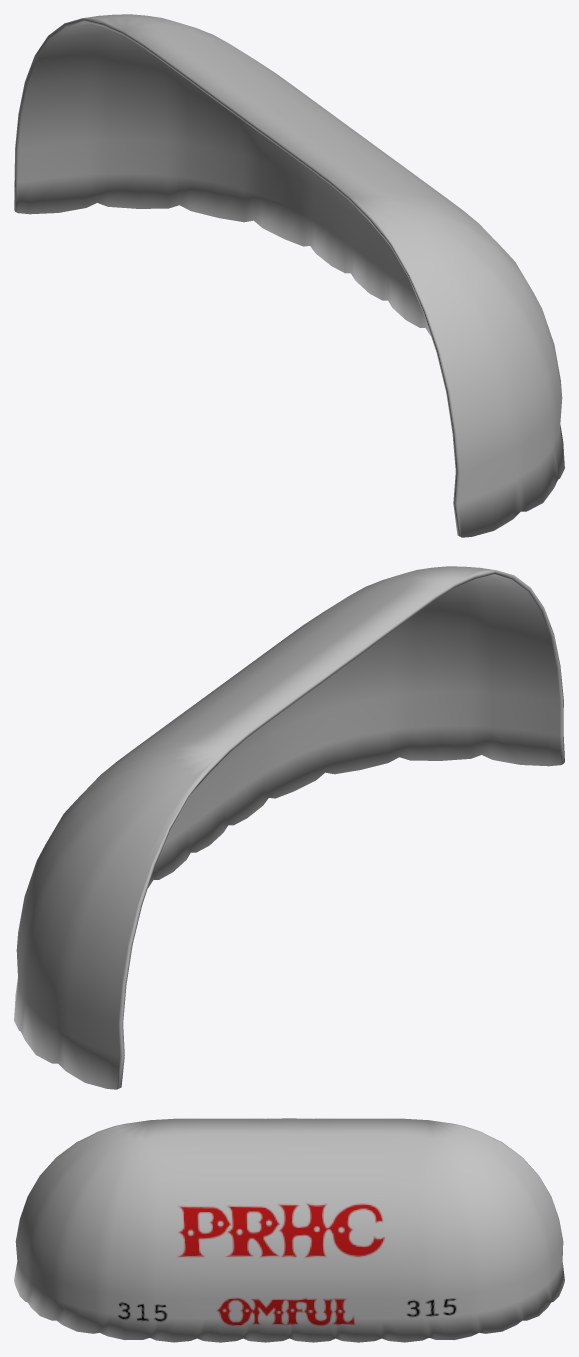
File: cbgb.fbx
The picture shows the model from 3 angles, top to bottom: view 1: azimuth 30°, elevation 25°; view 2: azimuth 150°, elevation 25°; view 3: azimuth 270°, elevation 25°; orthographic projection. The views are drawn at different scales.
Visible parts, largest first — view 1: signboard; view 2: signboard; view 3: signboard.
Part boxes in pixels (bbox=[...]): signboard: bbox=[14, 14, 564, 537]; signboard: bbox=[14, 566, 564, 1089]; signboard: bbox=[14, 1118, 564, 1342].
Size of the model in its own units: 101 by 134 by 402.
